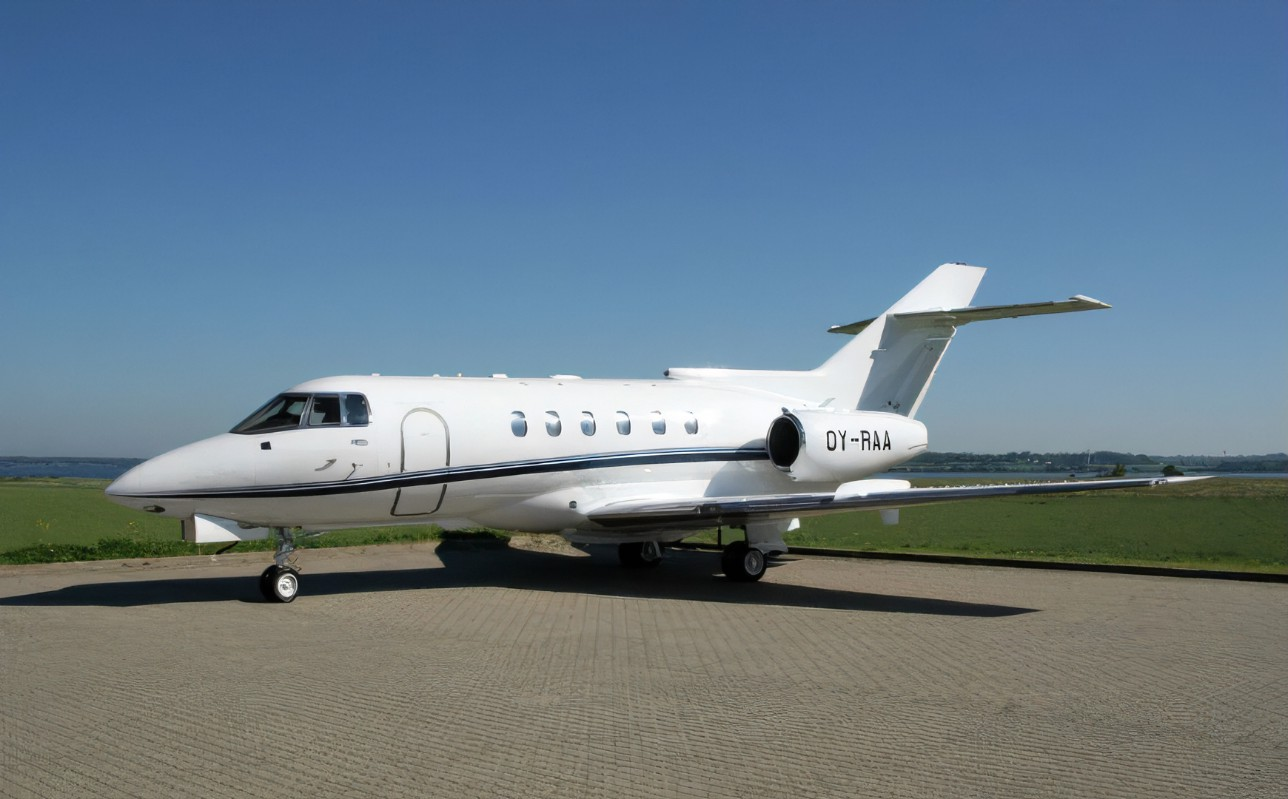Aeronef_commercial: (97, 246, 1245, 598)
